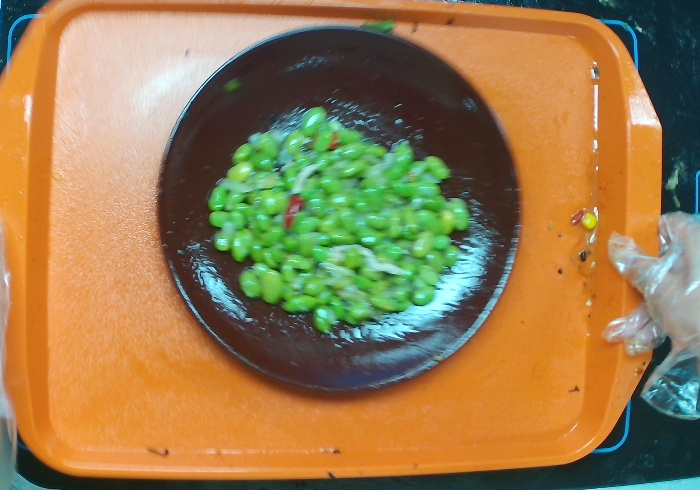HZYJPL-Ka_Fei_Yuan_Pan: (151, 22, 525, 397)
